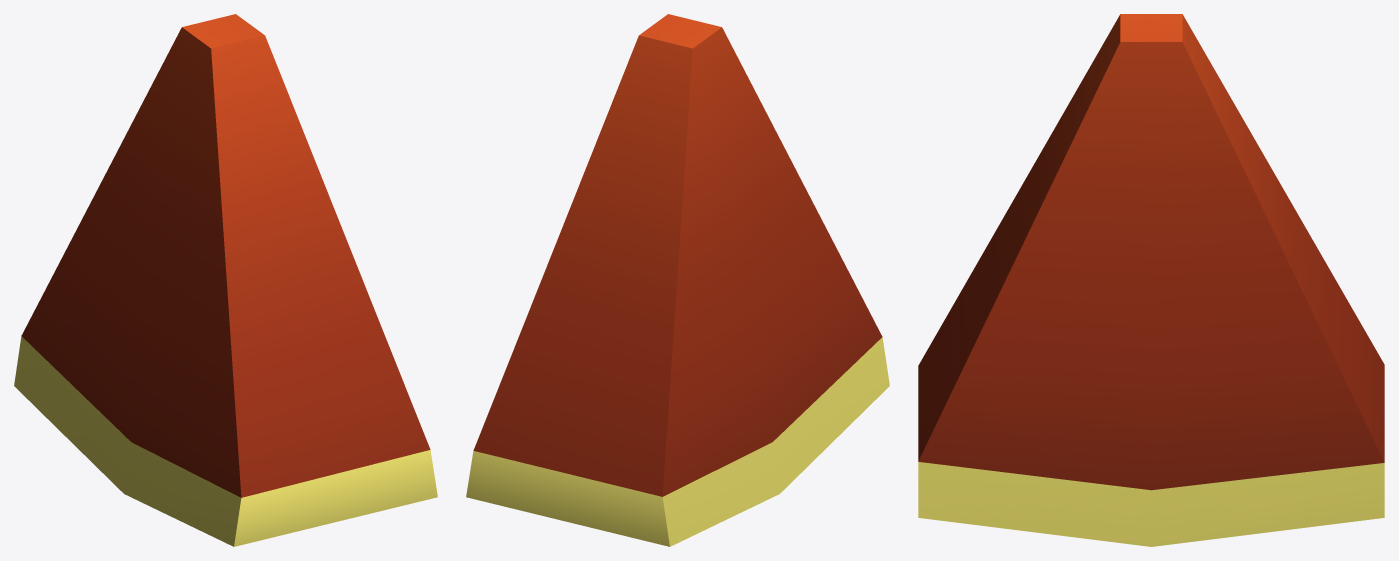
The model's file is melon_slice_small.fbx.
3 views of the same model, side by side, from view 1: azimuth 30°, elevation 25°; view 2: azimuth 150°, elevation 25°; view 3: azimuth 270°, elevation 25° (orthographic). The views are drawn at different scales.
Visible parts, largest first — view 1: melon_slice_small; view 2: melon_slice_small; view 3: melon_slice_small.
Boxes of the visible parts, bbox=[...] form: melon_slice_small: bbox=[14, 14, 437, 546]; melon_slice_small: bbox=[466, 14, 889, 546]; melon_slice_small: bbox=[918, 14, 1384, 546].
Size of the model in its own units: 10.25 by 21.05 by 19.14.
